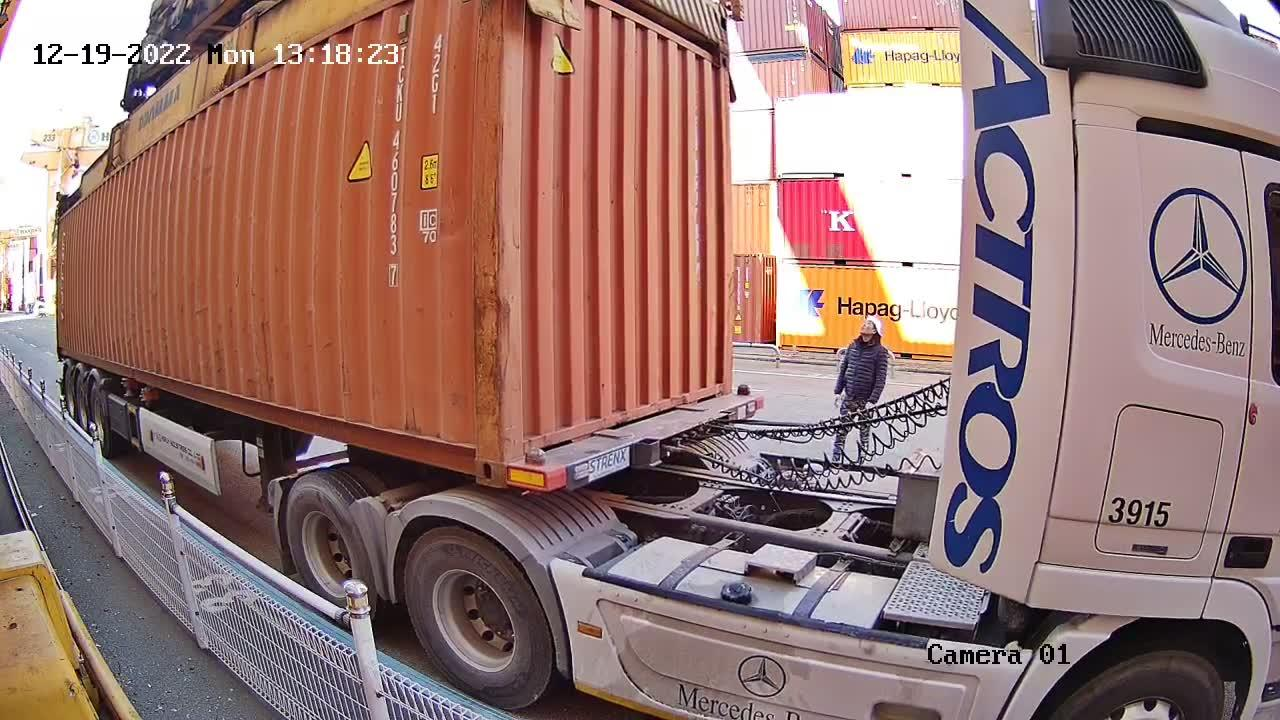Chassis: (510, 390, 763, 490)
Cone: (517, 445, 552, 502)
Hole_R: (436, 416, 504, 486)
Tire: (405, 530, 552, 706), (286, 479, 373, 609)
